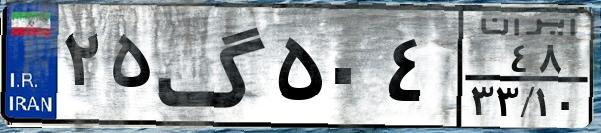0: (330, 28, 385, 110), (560, 70, 590, 125)
1: (535, 70, 560, 125)
2: (57, 26, 110, 100)
3: (470, 70, 495, 125), (495, 70, 520, 125)
4: (385, 28, 445, 110), (508, 27, 537, 80)
5: (270, 28, 330, 110), (110, 28, 156, 98)
8: (537, 27, 568, 80)
گ: (156, 12, 270, 120)
